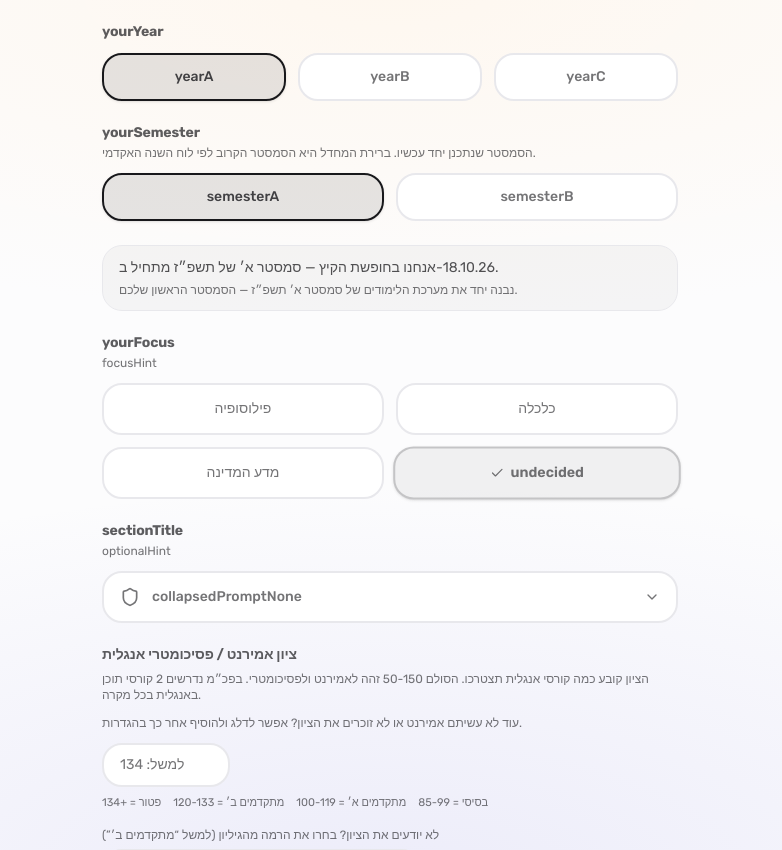
StepProfile — AMIRANT score validation (#38 QA-2) › typing 999 then blurring clamps IN VIEW to 150
(page scrolled)
Step 1. Type "999" into the number field with placeholder "למשל: 134" → coordinates (166, 765), box [102, 743, 230, 787]
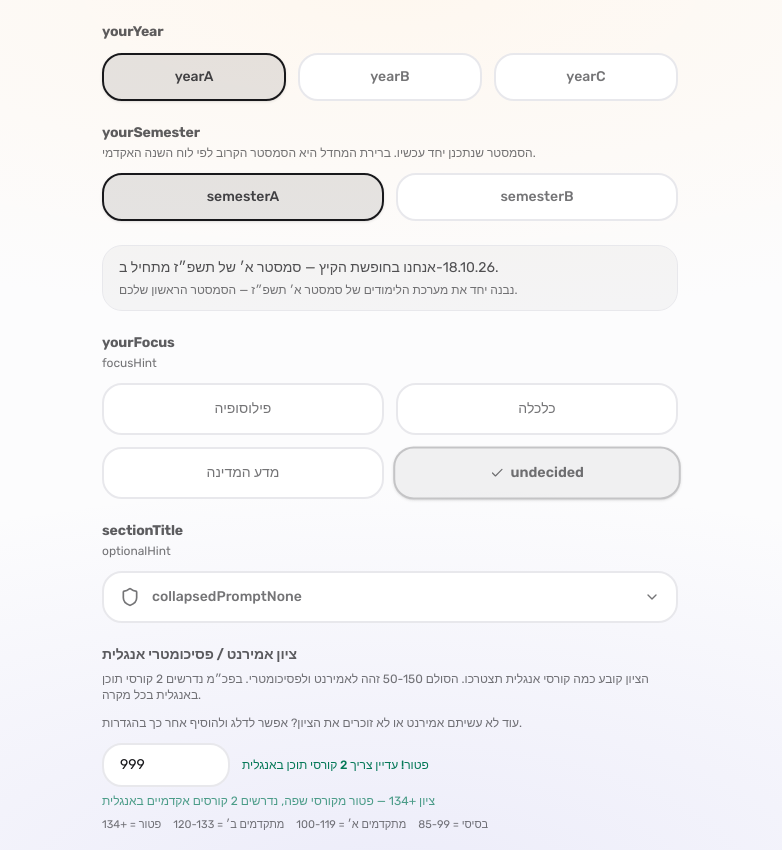
Step 2. Leave the number field with placeholder "למשל: 134", box [102, 743, 230, 787]
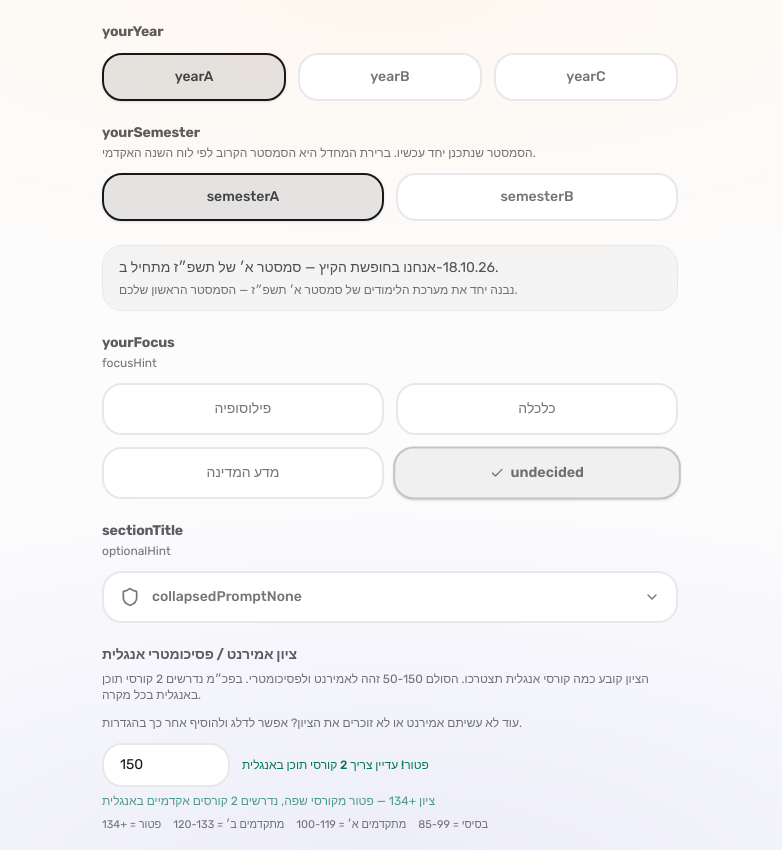
Result: the number field with placeholder "למשל: 134" holds "150" at [102, 743, 230, 787]
